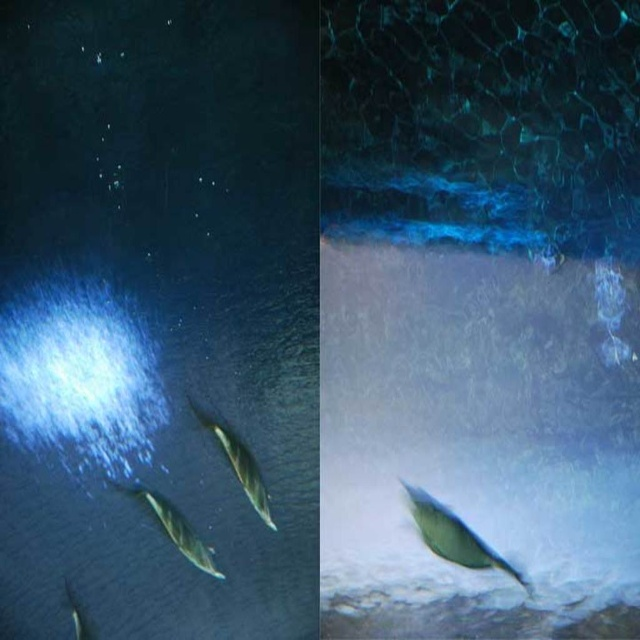Fish: (404, 485, 532, 591), (190, 397, 280, 538), (119, 484, 224, 577), (69, 584, 94, 639)
